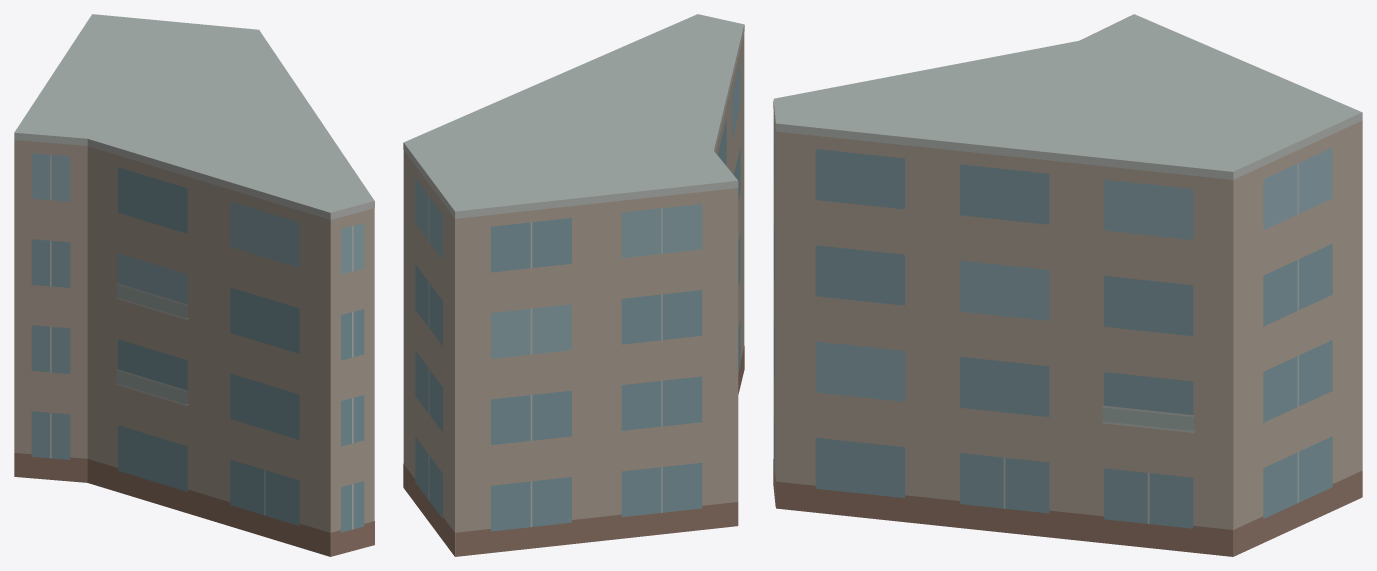
The model's file is survey-upis-32925129.glb.
The picture shows the model from 3 angles, left to right: view 1: azimuth 30°, elevation 25°; view 2: azimuth 150°, elevation 25°; view 3: azimuth 270°, elevation 25°; orthographic projection. The views are drawn at different scales.
Visible parts, largest first — view 1: survey-upis-32925129.tmp; view 2: survey-upis-32925129.tmp; view 3: survey-upis-32925129.tmp.
Part boxes in pixels (box(x1,y1,x2,y2)): survey-upis-32925129.tmp: box(14, 14, 374, 556); survey-upis-32925129.tmp: box(403, 14, 744, 556); survey-upis-32925129.tmp: box(773, 14, 1362, 556).
Size of the model in its own units: 10.21 by 11.6 by 16.1.
